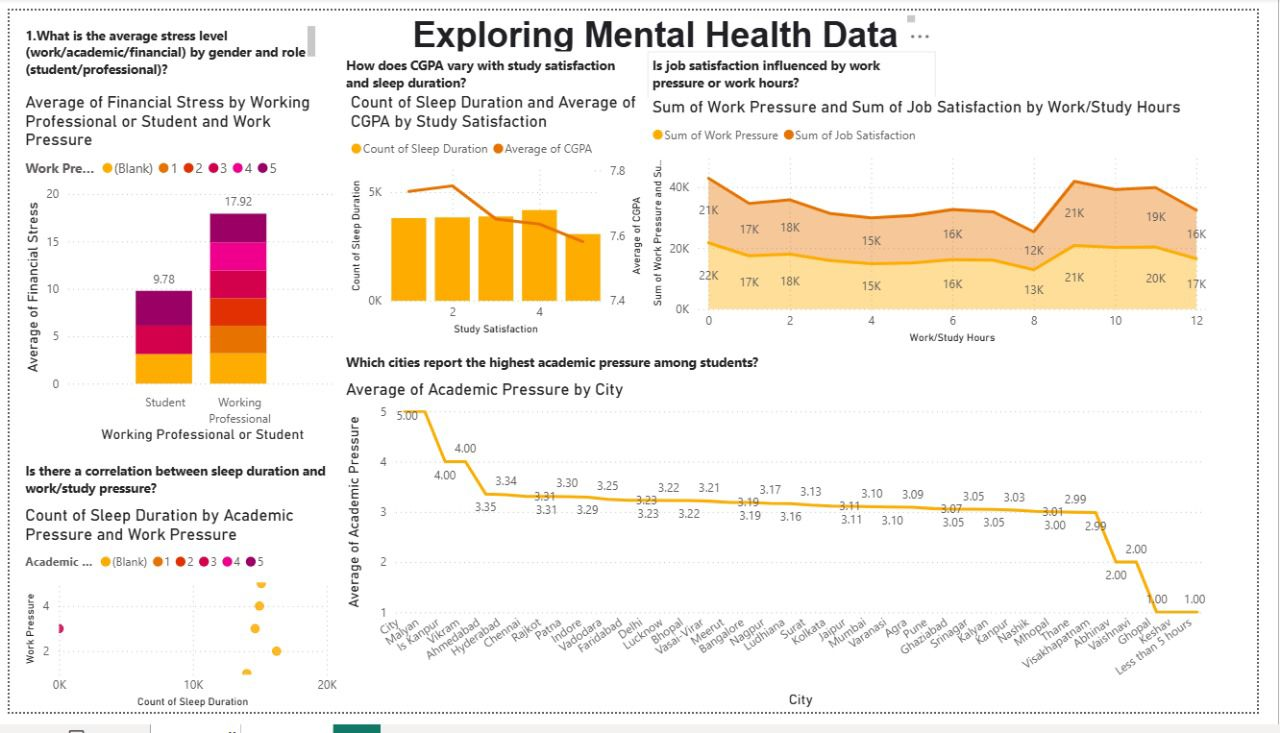

Layout of this report page (visuals, bound fields, positions):
{"tool":"powerbi","page":{"name":"Page 1","canvas":[1280,720],"ordinal":0},"visuals":[{"type":"textbox","box":[407.5,0,525.6,53.5],"z":0},{"type":"textbox","box":[11,11,307.4,61.7],"z":1000},{"type":"columnChart","fields":{"Category":["test.Working Professional or Student"],"Series":["test.Work Pressure"],"Y":["Avg(test.Financial Stress)"]},"box":[11,83.7,329.3,363.6],"z":2000},{"type":"textbox","box":[11,458.3,329.3,49.4],"z":3000},{"type":"scatterChart","fields":{"X":["CountNonNull(test.Sleep Duration)"],"Y":["test.Work Pressure"],"Series":["test.Academic Pressure"]},"box":[11,507.7,329.3,212.7],"z":4000},{"type":"textbox","box":[339.7,345.7,629.4,28.6],"z":5000},{"type":"lineChart","fields":{"Y":["Avg(test.Academic Pressure)"],"Category":["test.City"]},"box":[339.7,377.9,891.6,342.1],"z":6000},{"type":"textbox","box":[339.7,41.7,298,50.1],"z":7000},{"type":"lineClusteredColumnComboChart","fields":{"Y":["CountNonNull(test.Sleep Duration)"],"Category":["test.Study Satisfaction"],"Y2":["Avg(test.CGPA)"]},"box":[344.5,83.4,309.9,253.9],"z":8000},{"type":"textbox","box":[654.4,41.7,295.6,50.1],"z":9000},{"type":"stackedAreaChart","fields":{"Y":["Sum(test.Work Pressure)","Sum(test.Job Satisfaction)"],"Category":["test.Work/Study Hours"]},"box":[654.4,88.2,578.1,257.5],"z":10000}]}

Visuals, with their boxes in screenshot pixels (x1, y1, x2, y2), scaled from the page's 1280x720 canvas onto the 1280x733 screenshot:
textbox: [408,0,933,54]
textbox: [11,11,318,74]
columnChart - test.Working Professional or Student x test.Work Pressure: [11,85,340,455]
textbox: [11,467,340,517]
scatterChart - CountNonNull(test.Sleep Duration) x test.Work Pressure: [11,517,340,732]
textbox: [340,352,969,381]
lineChart - Avg(test.Academic Pressure) x test.City: [340,385,1231,732]
textbox: [340,42,638,93]
lineClusteredColumnComboChart - CountNonNull(test.Sleep Duration) x test.Study Satisfaction: [344,85,654,343]
textbox: [654,42,950,93]
stackedAreaChart - Sum(test.Work Pressure) x Sum(test.Job Satisfaction): [654,90,1232,352]
